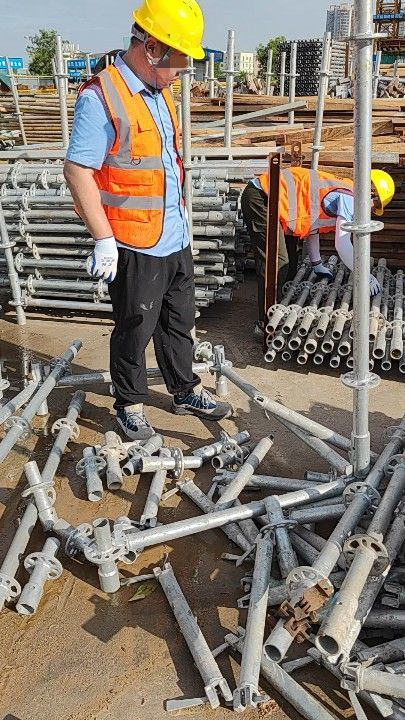helmet: (137, 1, 212, 62), (366, 169, 396, 219)
person: (72, 1, 228, 425), (237, 161, 396, 301)
scaffold: (1, 150, 240, 331), (271, 255, 405, 377)
vest: (80, 64, 192, 255), (248, 174, 359, 234)
